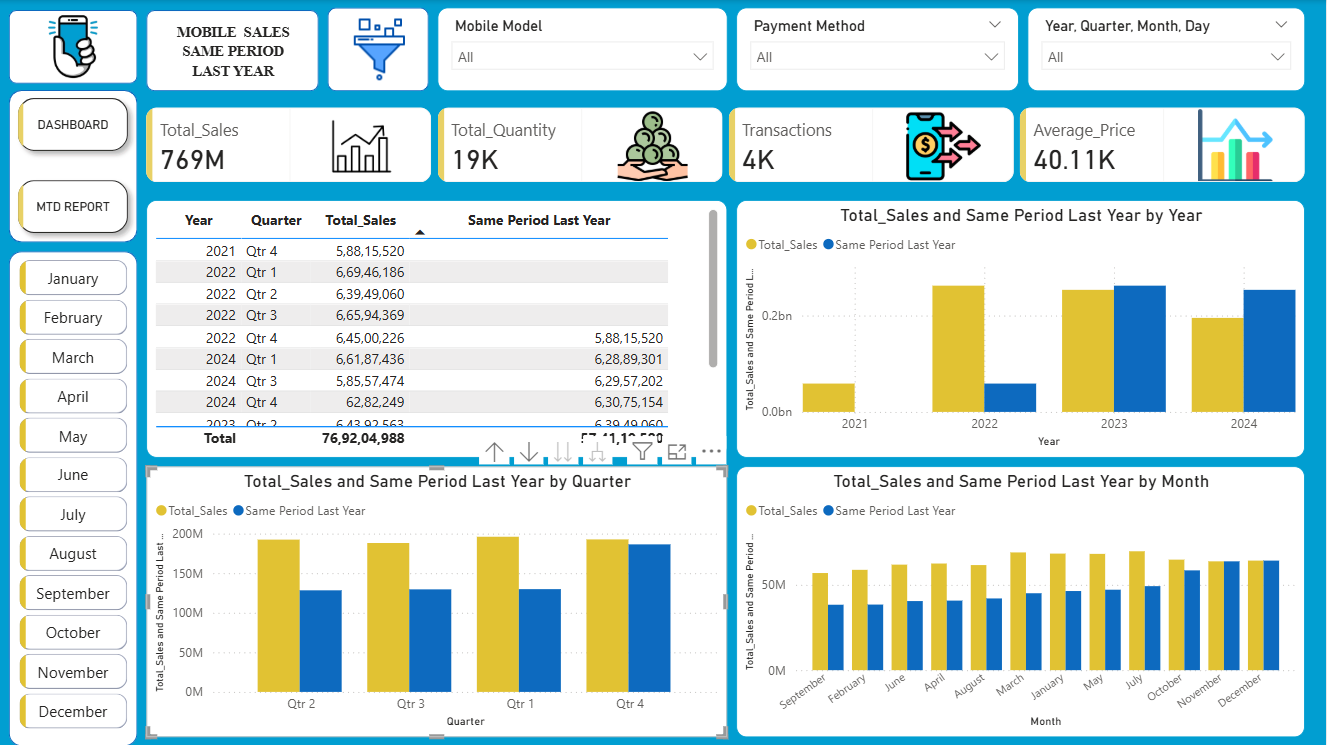

This screenshot's page, from the dashboard's own definition file:
{"tool":"powerbi","page":{"name":"SAME PERIOD LAST YEAR","canvas":[1280,720],"ordinal":2},"visuals":[{"type":"shape","box":[8.4,9.7,124.3,71.2],"z":0},{"type":"image","box":[19.3,4.8,102.5,80.8],"z":1000},{"type":"shape","box":[8.4,86.9,124.3,147.2],"z":2000},{"type":"shape","box":[8.4,242.5,124.3,477.8],"z":3000},{"type":"advancedSlicerVisual","fields":{"Values":["Custom_Calendar.Date.Variation.Date Hierarchy.Month"]},"box":[8.4,250.9,124.3,460.9],"z":4000},{"type":"cardVisual","fields":{"Data":["Mobile Sales Data.Total_Sales","Mobile Sales Data.Total_Quantity","Mobile Sales Data.Transactions","Mobile Sales Data.Average_Price"]},"box":[124.3,86.9,1155.8,106.2],"z":5000},{"type":"slicer","fields":{"Values":["Mobile Sales Data.Mobile Model"]},"box":[422.3,7.2,279.9,80.8],"z":6000},{"type":"slicer","fields":{"Values":["Mobile Sales Data.Payment Method"]},"box":[710.6,7.2,272.7,80.8],"z":7000},{"type":"shape","box":[316.1,7.2,97.7,80.8],"z":8000},{"type":"slicer","fields":{"Values":["Custom_Calendar.Date.Variation.Date Hierarchy.Year","Custom_Calendar.Date.Variation.Date Hierarchy.Quarter","Custom_Calendar.Date.Variation.Date Hierarchy.Month","Custom_Calendar.Date.Variation.Date Hierarchy.Day"]},"box":[991.7,7.2,267.8,80.8],"z":9000},{"type":"image","box":[329.4,16.9,73.6,61.5],"z":10000},{"type":"shape","box":[141.2,9.7,166.5,78.4],"z":11000},{"type":"textbox","box":[150.8,16.9,148.4,68.8],"z":12000},{"type":"tableEx","fields":{"Values":["Custom_Calendar.Date.Variation.Date Hierarchy.Year","Custom_Calendar.Date.Variation.Date Hierarchy.Quarter","Mobile Sales Data.Total_Sales","Mobile Sales Data.Same Period Last Year"]},"box":[141.2,193,561,248.5],"z":13000},{"type":"clusteredColumnChart","fields":{"Category":["Custom_Calendar.Date.Variation.Date Hierarchy.Year","Custom_Calendar.Date.Variation.Date Hierarchy.Quarter"],"Y":["Mobile Sales Data.Total_Sales","Mobile Sales Data.Same Period Last Year"]},"box":[710.6,193,548.9,248.5],"z":14000},{"type":"clusteredColumnChart","fields":{"Category":["Custom_Calendar.Date.Variation.Date Hierarchy.Year","Custom_Calendar.Date.Variation.Date Hierarchy.Quarter"],"Y":["Mobile Sales Data.Total_Sales","Mobile Sales Data.Same Period Last Year"]},"box":[141.2,450,561,261.8],"z":15000},{"type":"clusteredColumnChart","fields":{"Y":["Mobile Sales Data.Total_Sales","Mobile Sales Data.Same Period Last Year"],"Category":["Custom_Calendar.Date.Variation.Date Hierarchy.Year","Custom_Calendar.Date.Variation.Date Hierarchy.Quarter","Custom_Calendar.Date.Variation.Date Hierarchy.Month","Custom_Calendar.Date.Variation.Date Hierarchy.Day"]},"box":[710.6,450,548.9,261.8],"z":16000},{"type":"pageNavigator","box":[8.4,85.7,124.3,148.4],"z":17000}]}

Visuals, with their boxes in screenshot pixels (x1, y1, x2, y2), scaled from the page's 1280x720 canvas onto the 1327x745 screenshot:
shape: (9, 10, 138, 84)
image: (20, 5, 126, 89)
shape: (9, 90, 138, 242)
shape: (9, 251, 138, 744)
advancedSlicerVisual - Custom_Calendar.Date.Variation.Date Hierarchy.Month: (9, 260, 138, 737)
cardVisual - Mobile Sales Data.Total_Sales x Mobile Sales Data.Total_Quantity: (129, 90, 1326, 200)
slicer - Mobile Sales Data.Mobile Model: (438, 7, 728, 91)
slicer - Mobile Sales Data.Payment Method: (737, 7, 1019, 91)
shape: (328, 7, 429, 91)
slicer - Custom_Calendar.Date.Variation.Date Hierarchy.Year x Custom_Calendar.Date.Variation.Date Hierarchy.Quarter: (1028, 7, 1306, 91)
image: (341, 17, 418, 81)
shape: (146, 10, 319, 91)
textbox: (156, 17, 310, 89)
tableEx - Custom_Calendar.Date.Variation.Date Hierarchy.Year x Custom_Calendar.Date.Variation.Date Hierarchy.Quarter: (146, 200, 728, 457)
clusteredColumnChart - Custom_Calendar.Date.Variation.Date Hierarchy.Year x Custom_Calendar.Date.Variation.Date Hierarchy.Quarter: (737, 200, 1306, 457)
clusteredColumnChart - Custom_Calendar.Date.Variation.Date Hierarchy.Year x Custom_Calendar.Date.Variation.Date Hierarchy.Quarter: (146, 466, 728, 737)
clusteredColumnChart - Mobile Sales Data.Total_Sales x Mobile Sales Data.Same Period Last Year: (737, 466, 1306, 737)
pageNavigator: (9, 89, 138, 242)
